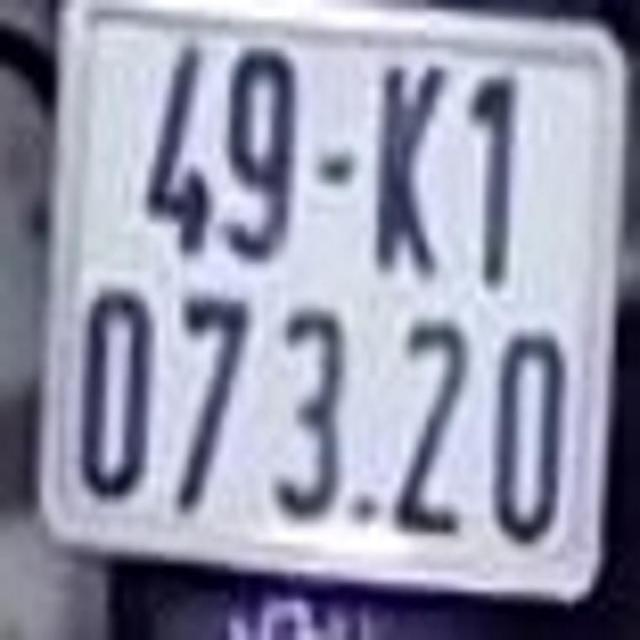0: (79, 283, 155, 496), (492, 324, 562, 535)
1: (465, 64, 528, 289)
2: (386, 311, 472, 538)
3: (275, 299, 343, 520)
4: (142, 39, 216, 251)
7: (168, 289, 252, 513)
9: (219, 40, 297, 258)
K: (372, 55, 441, 276)
